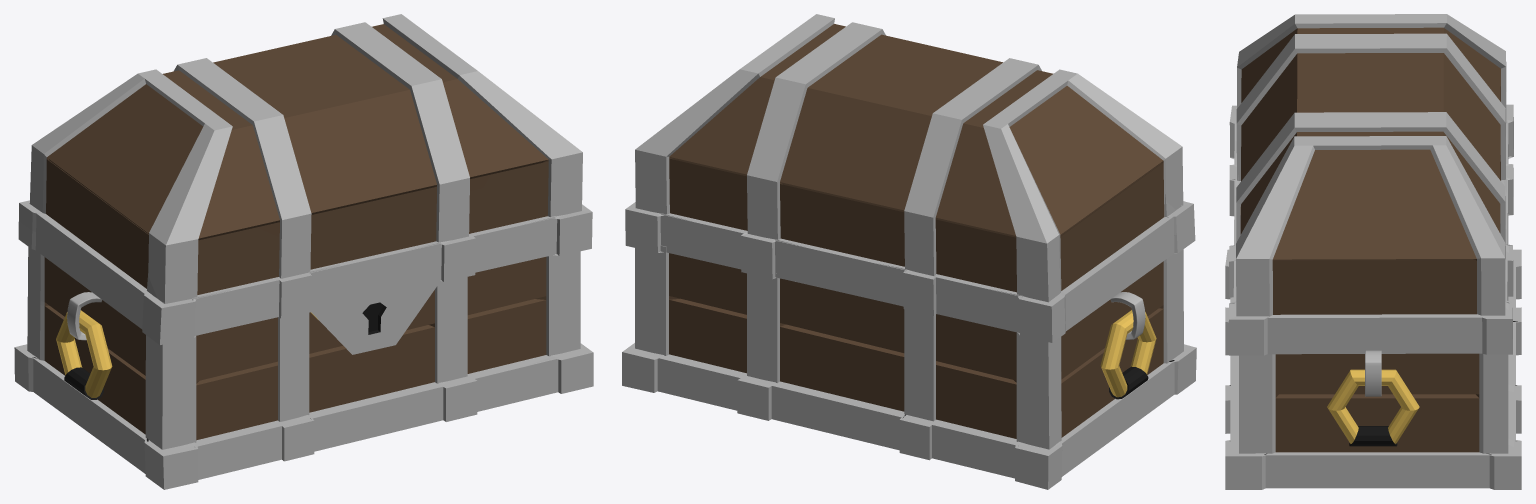
File: Cofre.fbx
The picture shows the model from 3 angles, left to right: view 1: azimuth 30°, elevation 25°; view 2: azimuth 150°, elevation 25°; view 3: azimuth 270°, elevation 25°; orthographic projection.
Parts seen in each view (by area): view 1: Cube.003, Cube, Torus.002, Cube.001; view 2: Cube.003, Cube, Torus.002, Cube.001; view 3: Cube.003, Cube, Torus.001, Cube.002.
Boxes of the visible parts, x1,y1,x2,y2 form: Cube.003: [18, 14, 592, 354]; Cube: [14, 247, 593, 489]; Torus.002: [56, 310, 112, 399]; Cube.001: [67, 292, 101, 340]; Cube.003: [625, 14, 1195, 342]; Cube: [622, 245, 1196, 489]; Torus.002: [1100, 310, 1156, 399]; Cube.001: [1110, 292, 1145, 339]; Cube.003: [1229, 14, 1513, 355]; Cube: [1225, 218, 1521, 489]; Torus.001: [1327, 369, 1419, 446]; Cube.002: [1365, 350, 1381, 396].
Size of the model in its own units: 299 by 192 by 166.
